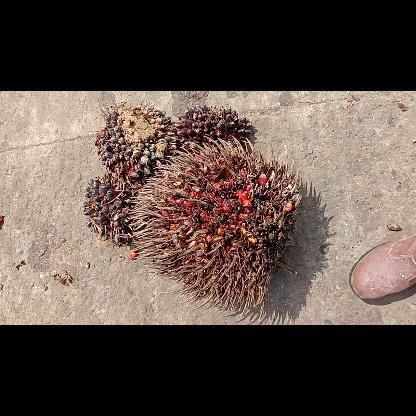TBS abnormal: (93, 101, 175, 181), (80, 174, 140, 247), (174, 104, 256, 154)
Terlalu masak: (127, 134, 303, 319)
